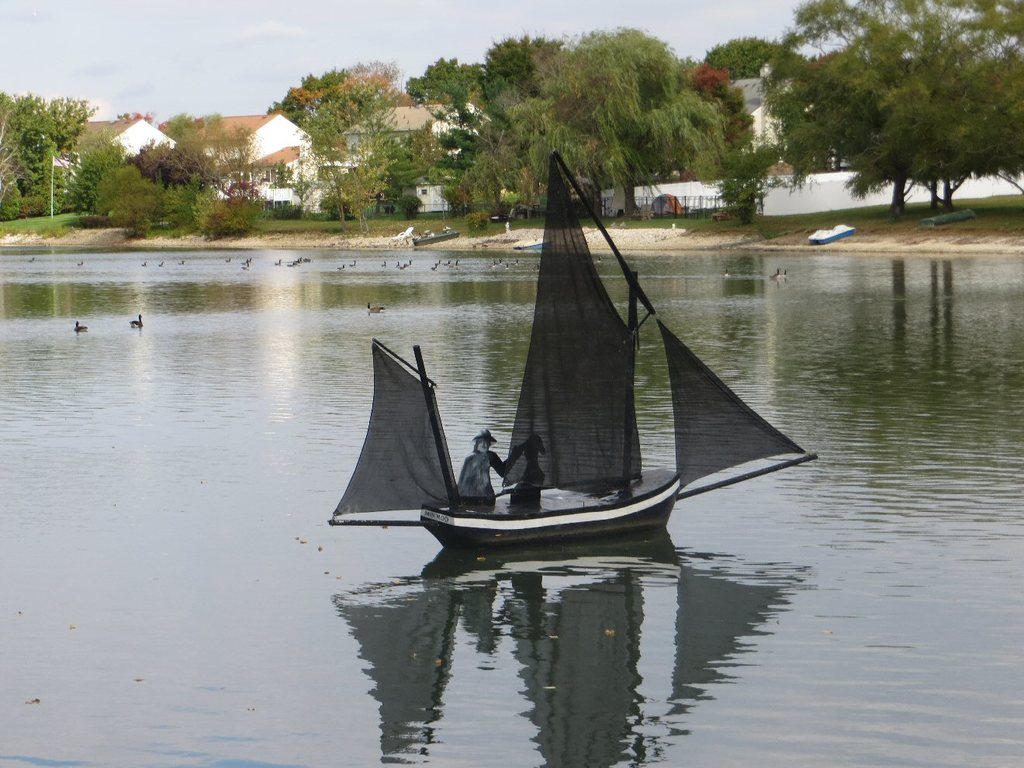boat: (293, 147, 845, 598)
